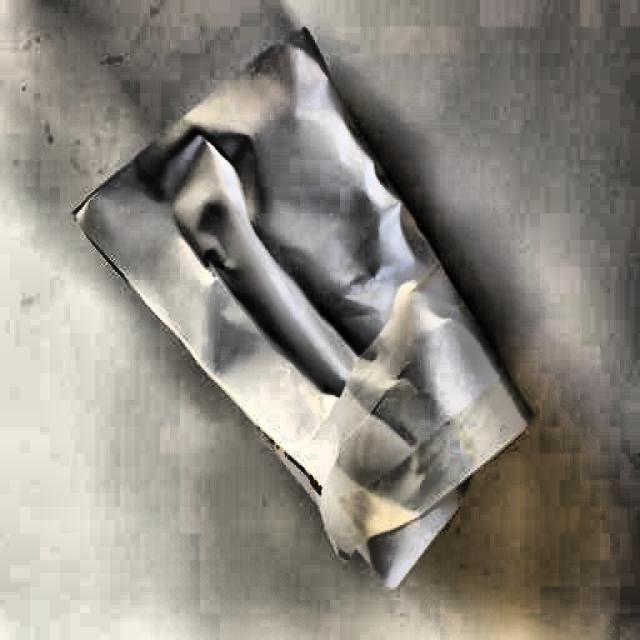paper: (72, 26, 537, 589)
